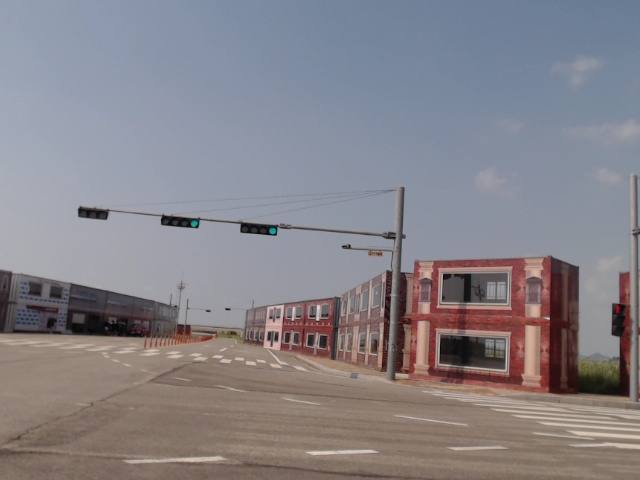straight_green_4: (240, 222, 278, 237), (160, 215, 201, 228)
